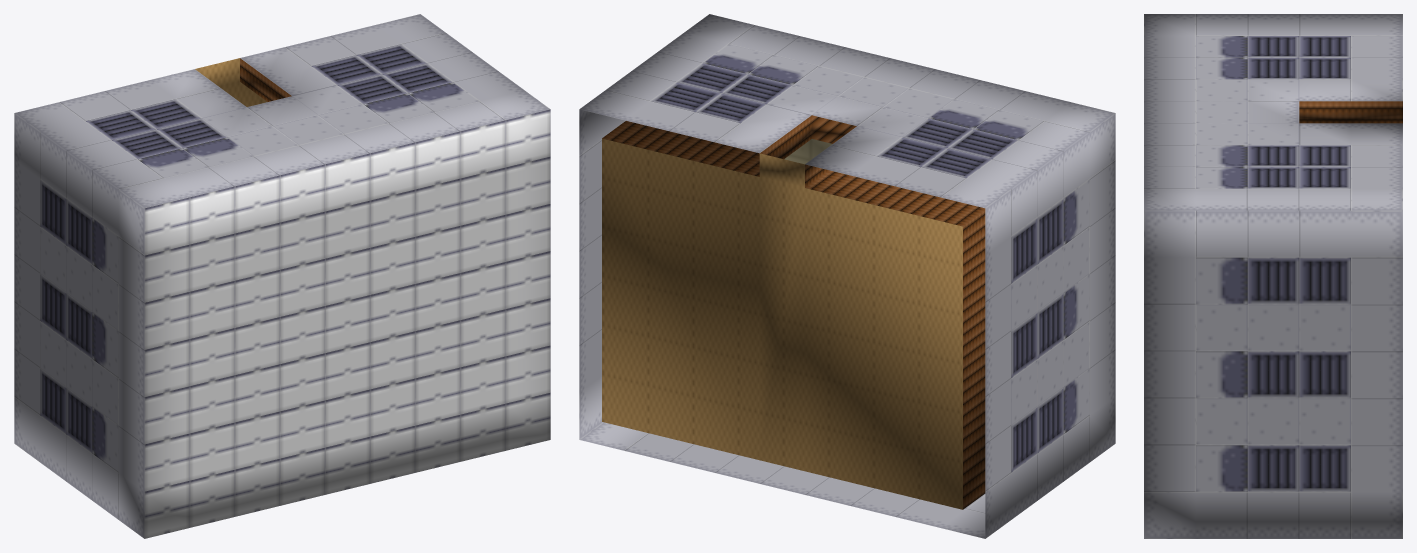
File: house.fbx
3 renders of one model, left to right at view 1: azimuth 30°, elevation 25°; view 2: azimuth 150°, elevation 25°; view 3: azimuth 270°, elevation 25°, orthographic.
Visible parts, largest first — view 1: house_005; view 2: house_005; view 3: house_005.
Part boxes in pixels (x1,y1,x2,y2): house_005: (14,14,550,538); house_005: (579,14,1115,538); house_005: (1144,14,1402,538).
Bounding box in the file's own units: 18 × 14 × 10.
2 materials, 2 textured.
